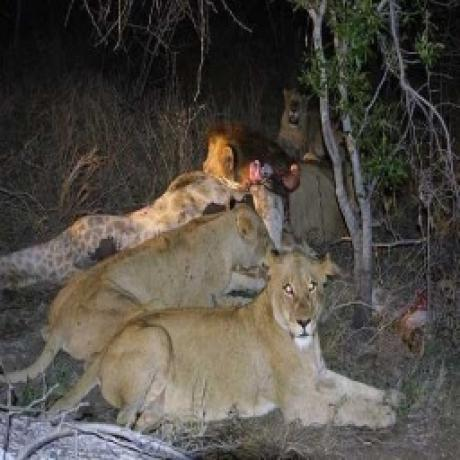Lion: (53, 247, 393, 432), (0, 199, 276, 364)
